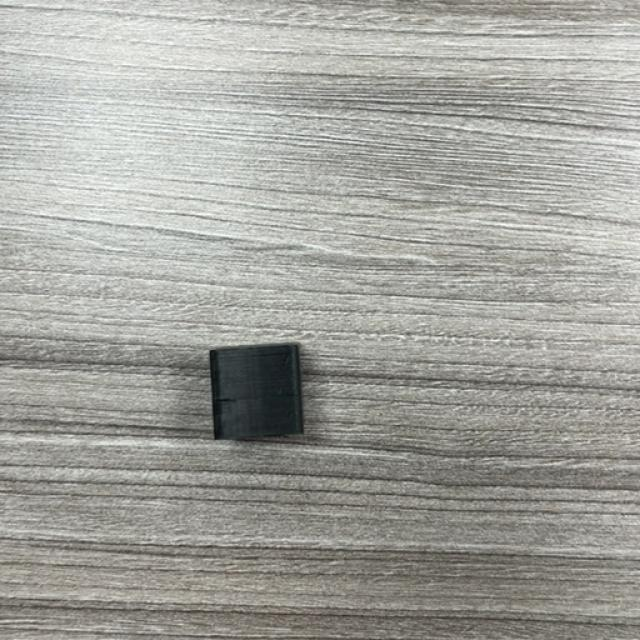Negro: (208, 342, 305, 441)
